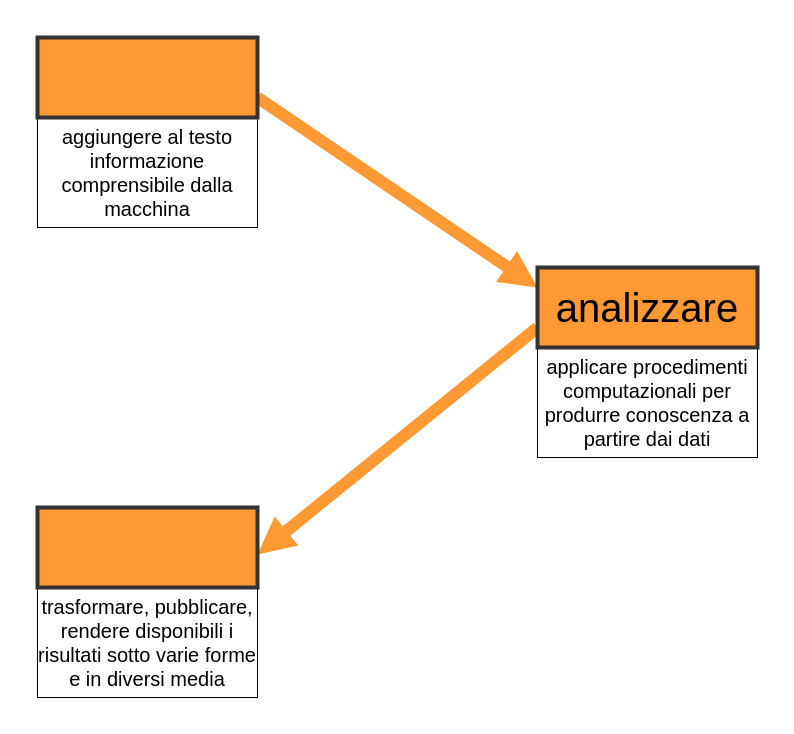
This 794x734 diagram has some shape labels left out. Here are the shapes that lost their labels. From the top down, the centre of each, then its label:
At point 147,77: "codificare".
At point 147,547: "diffondere".
